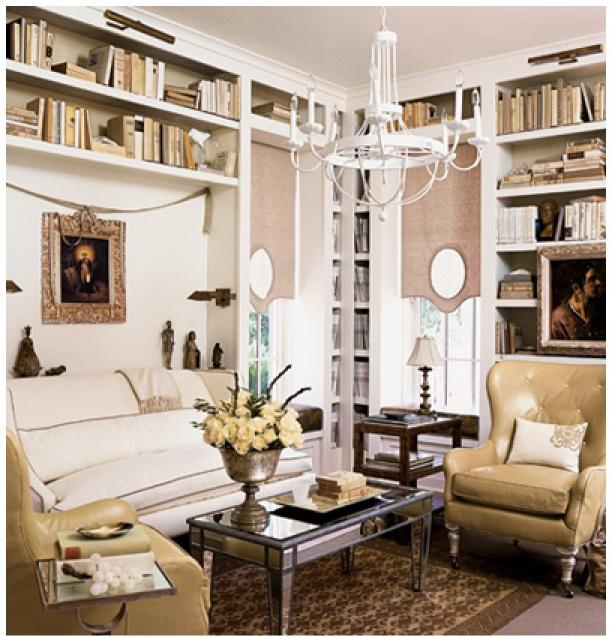Meja: (184, 476, 434, 636)
